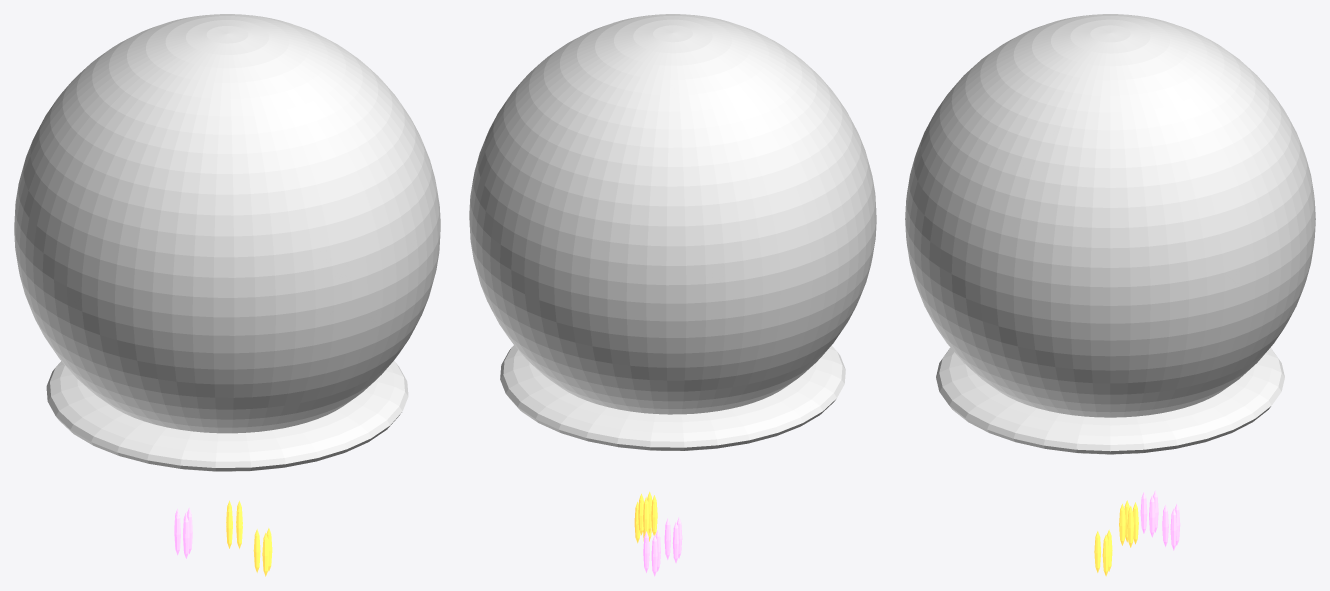
File: fishbowl.glb
3 renders of one model, left to right at view 1: azimuth 30°, elevation 25°; view 2: azimuth 150°, elevation 25°; view 3: azimuth 270°, elevation 25°, orthographic. The views are drawn at different scales.
Parts seen in each view (by area): view 1: Fishbowl_Glass, Gravel_Base; view 2: Fishbowl_Glass, Gravel_Base; view 3: Fishbowl_Glass, Gravel_Base.
Part boxes in pixels (bbox=[...]): Fishbowl_Glass: bbox=[14, 14, 440, 433]; Gravel_Base: bbox=[46, 361, 408, 471]; Fishbowl_Glass: bbox=[469, 14, 876, 414]; Gravel_Base: bbox=[500, 345, 845, 450]; Fishbowl_Glass: bbox=[905, 14, 1315, 417]; Gravel_Base: bbox=[936, 348, 1284, 454].
Size of the model in its own units: 4 by 5.65 by 4.
